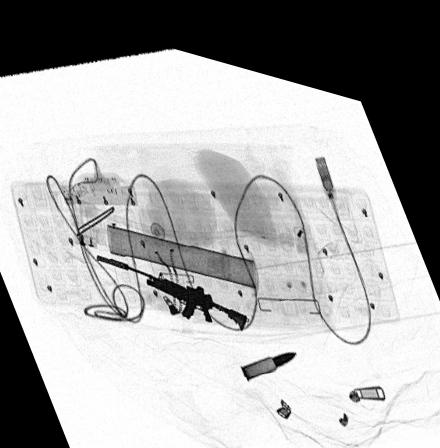Bullet: (241, 336, 298, 367)
Gun: (97, 250, 247, 317)
